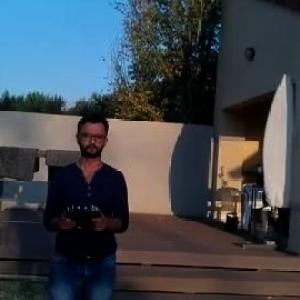follow: (33, 107, 131, 299)
